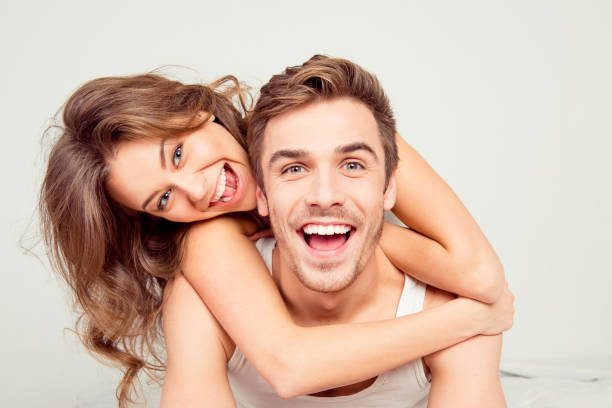without mask: (258, 78, 389, 307), (77, 102, 265, 223)
